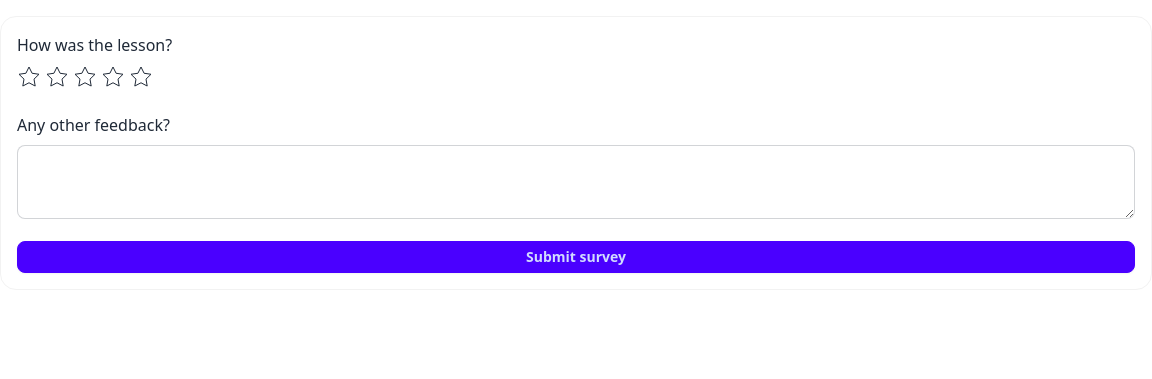
Test case: InlineSurvey › shows API error message on 400 response
The width and height of the screenshot is (1152, 379).
Click the button "Submit survey": x=576, y=257 top-left (17, 241), bottom-right (1135, 273)
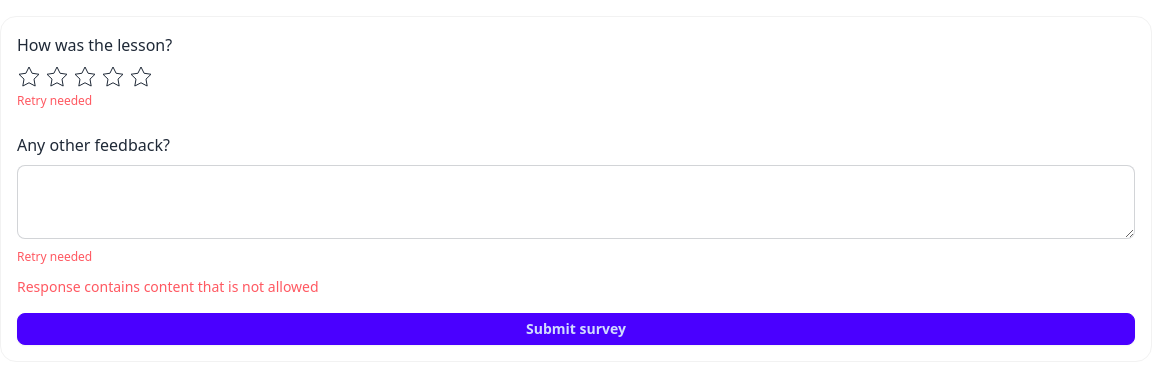
Expected: the text "Response contains content that is not allowed" is shown, top-left (17, 277), bottom-right (319, 296)
